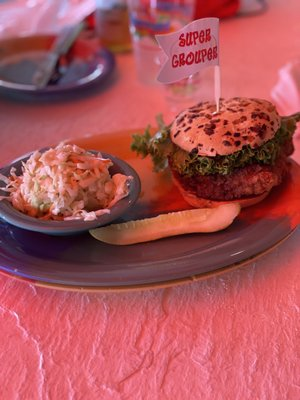pizza: (127, 0, 197, 87), (94, 0, 133, 52)
sushi: (0, 142, 142, 236)
